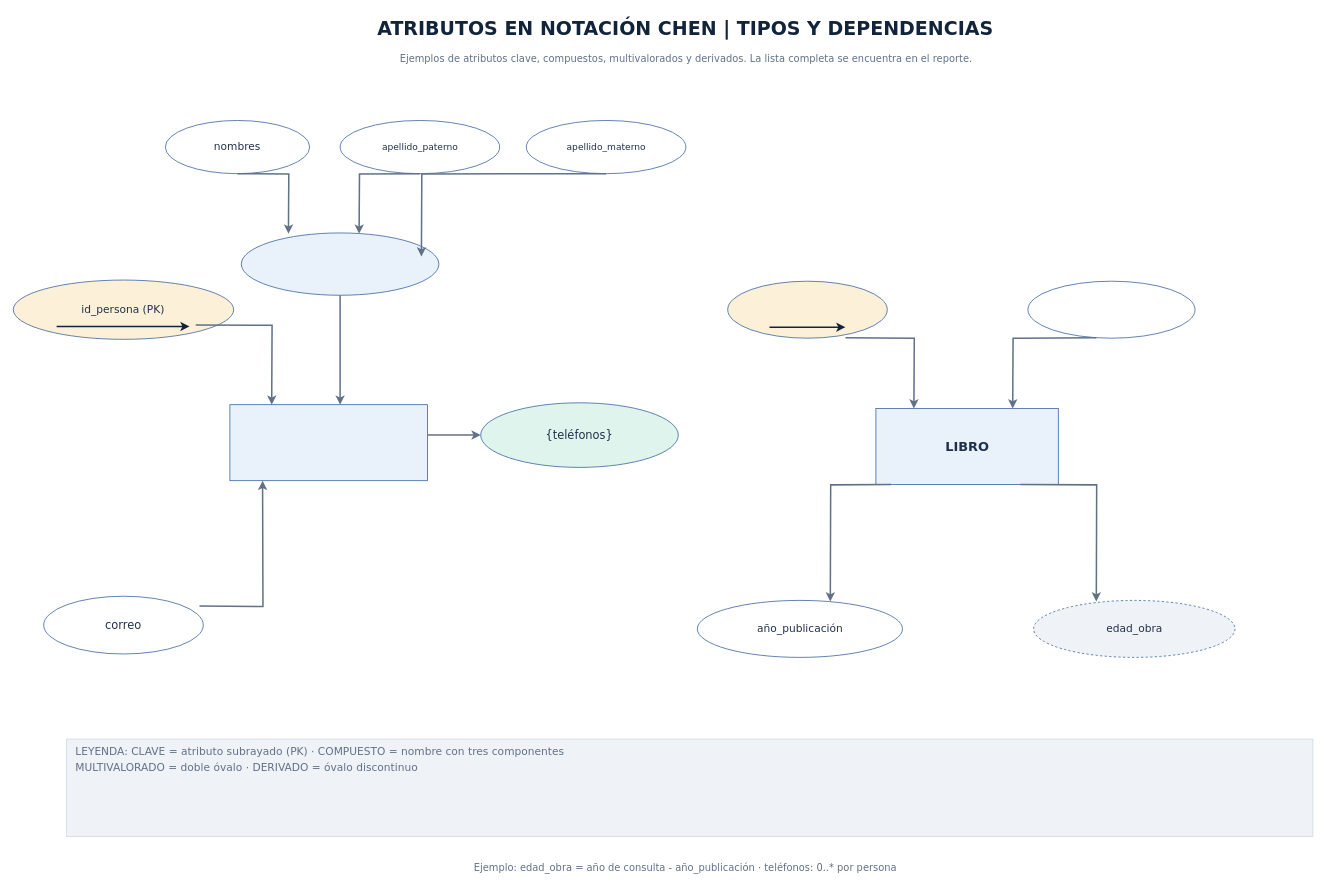
Some shapes in this 1326 by 890 pixel diagram are drawn without their labels. The shapes that lost their labels are listed below. From the top down, each one's centre as x and y in pixels, then its label:
point 340,263: nombre
point 807,309: isbn (PK)
point 1111,309: título
point 328,442: PERSONA
